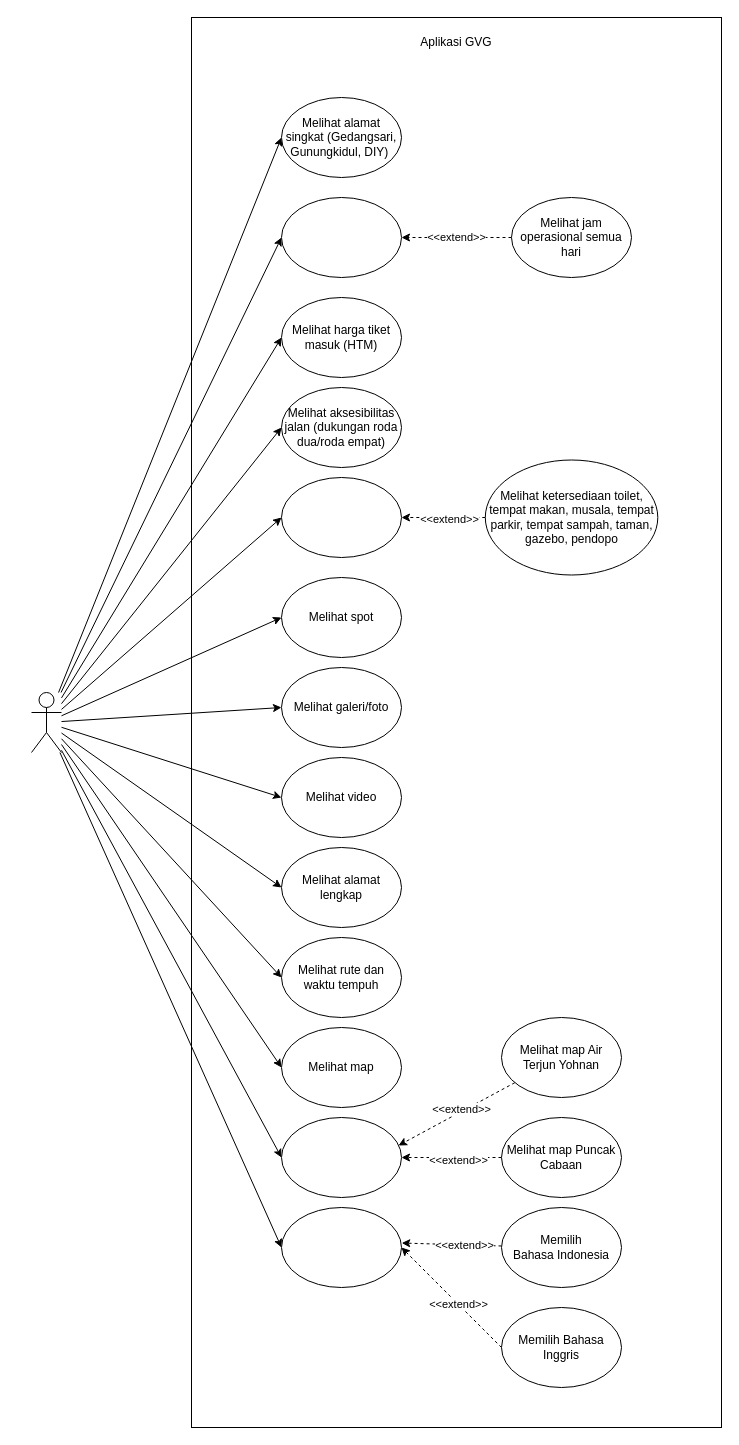
Some shapes in this 739 by 1445 pixel diagram are drawn without their labels. Each missing label, with the box of its shape:
Melihat fasilitas: (280, 476, 402, 558)
Melihat jam operasional hari ini: (280, 196, 402, 278)
Melihat objek wisata sekitar: (280, 1116, 402, 1198)
Mengubah bahasa aplikasi: (280, 1206, 402, 1288)
Wisatawan: (30, 692, 62, 752)
